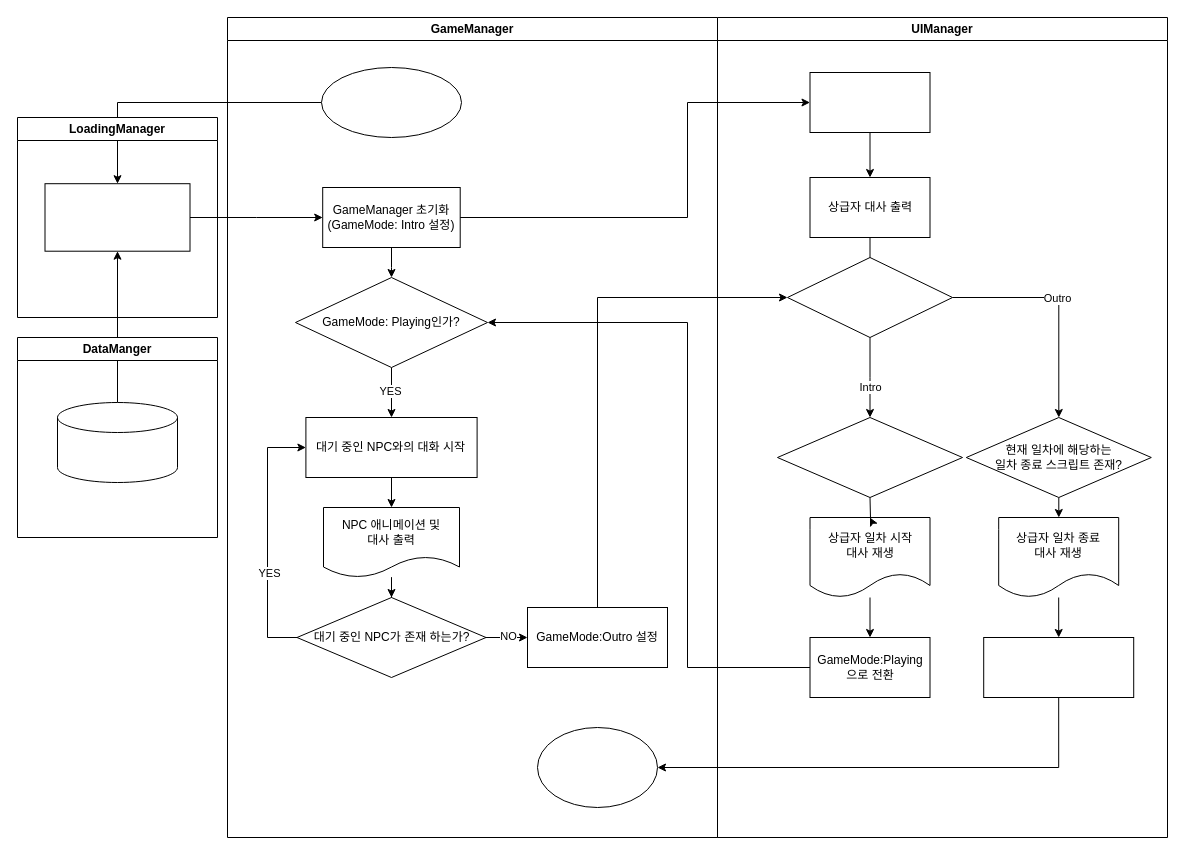
The diagram is 1185 pixels wide and 855 high, and some of its shapes have lost their labels. The centre of each missing label's shape, as x and y in pixels:
"GameMode가 무엇인가?" belongs at [869,297].
"GameScene 전환 시작" belongs at [391,102].
"GameScene 종료" belongs at [597,767].
"UIManager 초기화" belongs at [869,102].
"데이터 불러오기 및 초기화 작업 시작" belongs at [117,217].
"저장 데이터 불러오기" belongs at [117,442].
"정산 화면으로 전환 요청" belongs at [1058,667].
"현재 일차에 해당하는 일차 시작 스크립트 존재?" belongs at [869,457].
